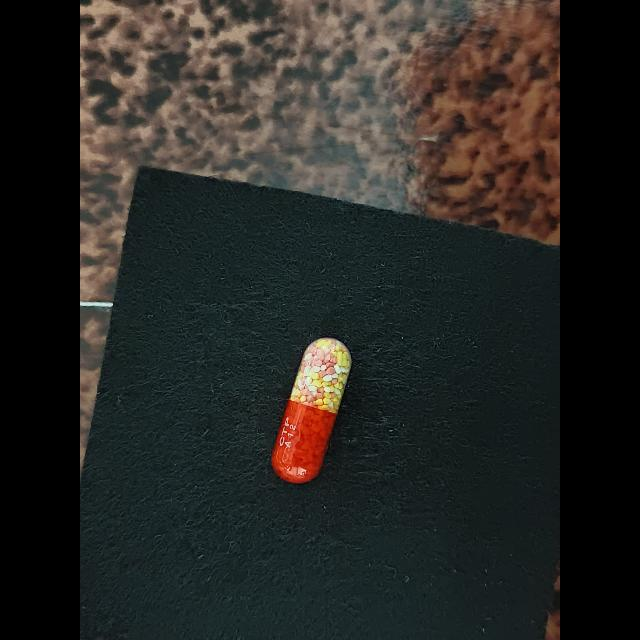Intact Capsule: (271, 337, 351, 483)
